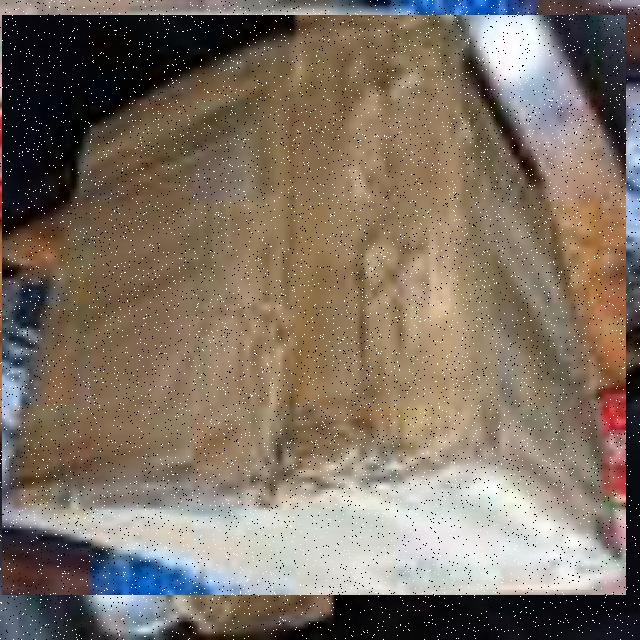defect: (2, 16, 626, 596)
